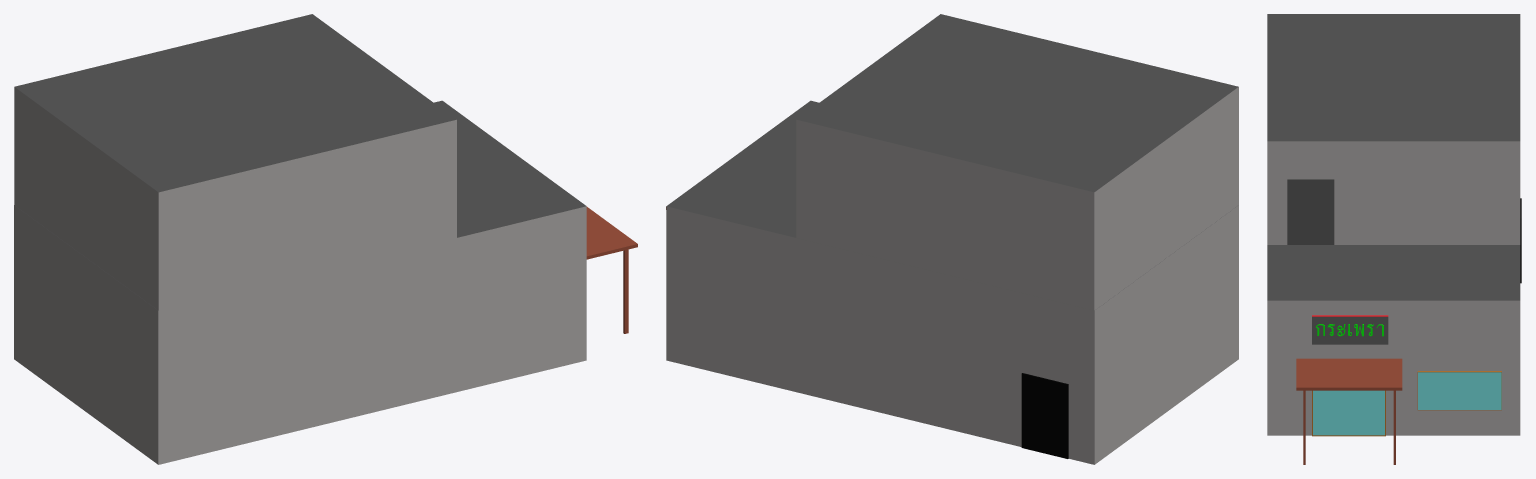
Rendered from Modle.fbx.
3 views of the same model, side by side, from view 1: azimuth 30°, elevation 25°; view 2: azimuth 150°, elevation 25°; view 3: azimuth 270°, elevation 25° (orthographic). The views are drawn at different scales.
Visible parts, largest first — view 1: Cube, Cube.001, Cube.004; view 2: Cube.001, Cube, Cube.010; view 3: Cube.001, Cube, Cube.004, Cube.007, Cube.008, Cube.009, Cube.003, Text.
Boxes of the visible parts, box(x1,y1,x2,y2) form: Cube: box(14, 100, 586, 464); Cube.001: box(14, 14, 456, 311); Cube.004: box(586, 207, 637, 259); Cube.001: box(796, 14, 1238, 310); Cube: box(666, 100, 1238, 464); Cube.010: box(1021, 373, 1068, 458); Cube.001: box(1267, 14, 1520, 244); Cube: box(1267, 245, 1520, 435); Cube.004: box(1296, 358, 1402, 390); Cube.007: box(1312, 390, 1385, 436); Cube.008: box(1417, 371, 1501, 410); Cube.009: box(1287, 179, 1334, 244); Cube.003: box(1312, 315, 1388, 344); Text: box(1315, 324, 1383, 336).
Size of the model in its own units: 1132 by 600 by 574.
